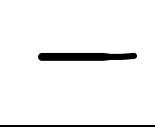minus: (36, 49, 139, 66)
